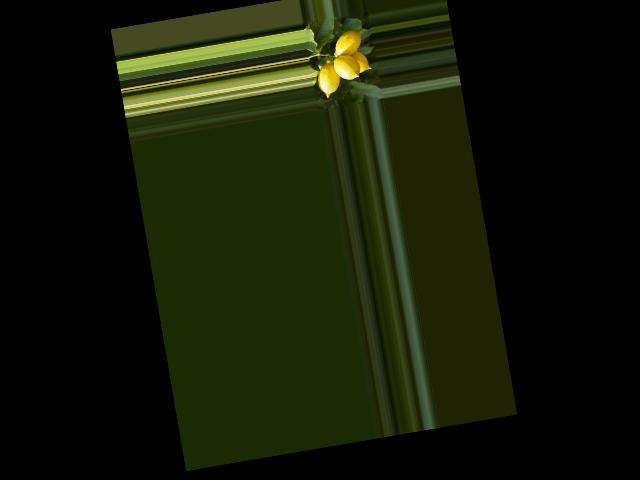lemon: (341, 46, 376, 80)
